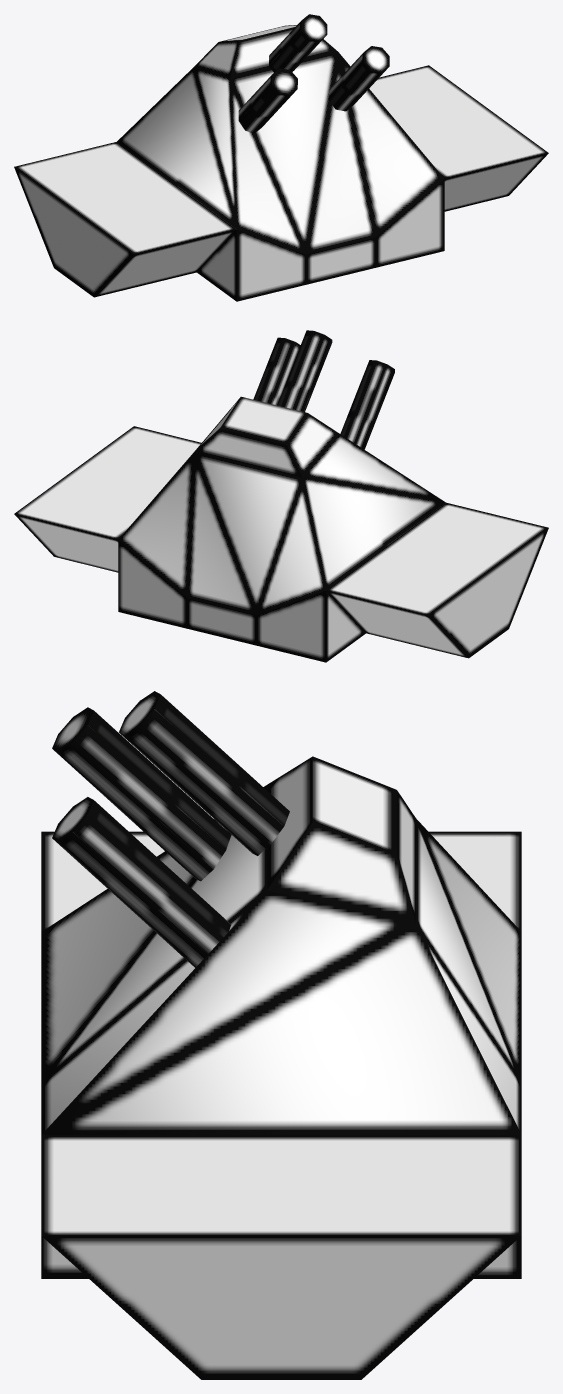
Rendered from AntiAirTank3.obj.
3 renders of one model, top to bottom at view 1: azimuth 30°, elevation 25°; view 2: azimuth 150°, elevation 25°; view 3: azimuth 270°, elevation 25°, orthographic. The views are drawn at different scales.
Visible parts, largest first — view 1: Box21; view 2: Box21; view 3: Box21.
Part boxes in pixels (x1=…): Box21: x1=14, y1=14, x2=548, y2=301; Box21: x1=14, y1=330, x2=548, y2=662; Box21: x1=41, y1=691, x2=521, y2=1379.
Size of the model in its own units: 3.99 by 2.21 by 2.
Materials: 1 (1 with a texture image).
